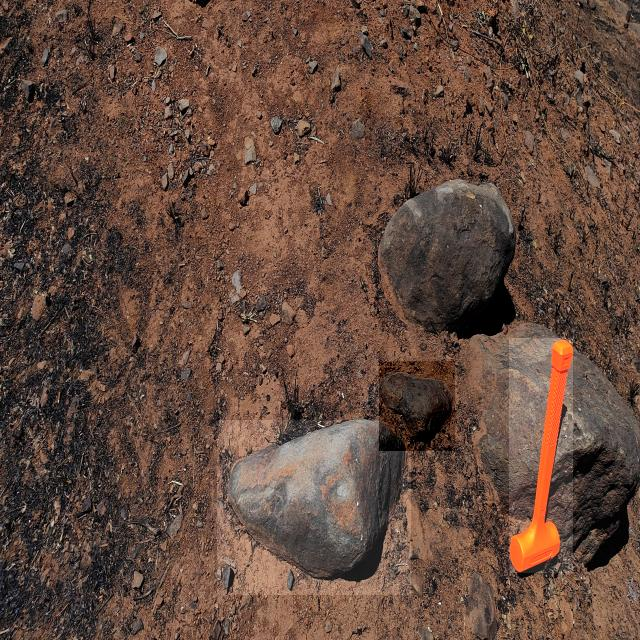Orange_hammer: (509, 338, 573, 573)
rock: (218, 420, 412, 595), (375, 178, 517, 338), (379, 362, 455, 452)
